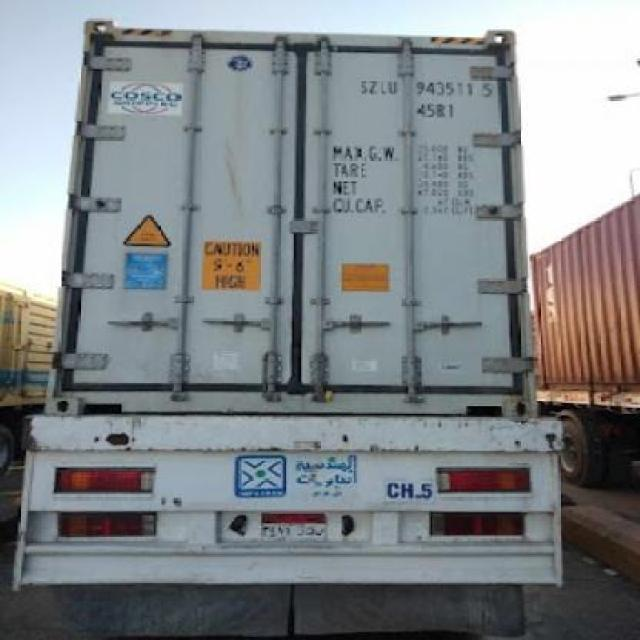ISO: (416, 100, 456, 119)
container_number: (360, 78, 492, 98)
